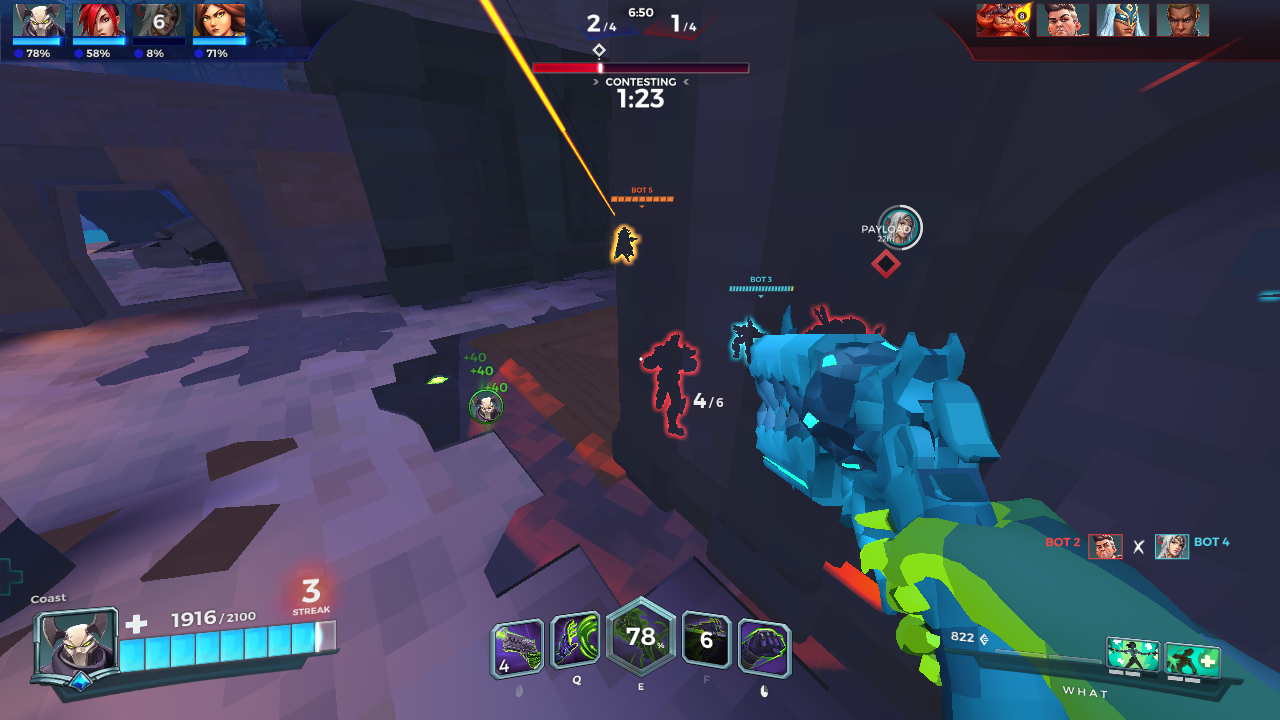model: (636, 327, 694, 439), (610, 220, 639, 268)
